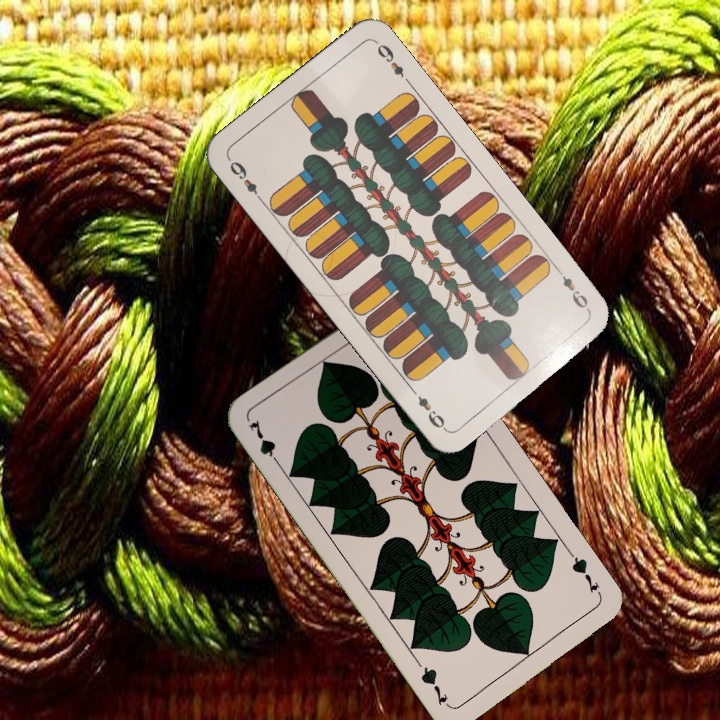E9: (225, 156, 266, 205), (553, 266, 593, 316)
G7: (244, 415, 284, 470), (565, 548, 605, 600)
